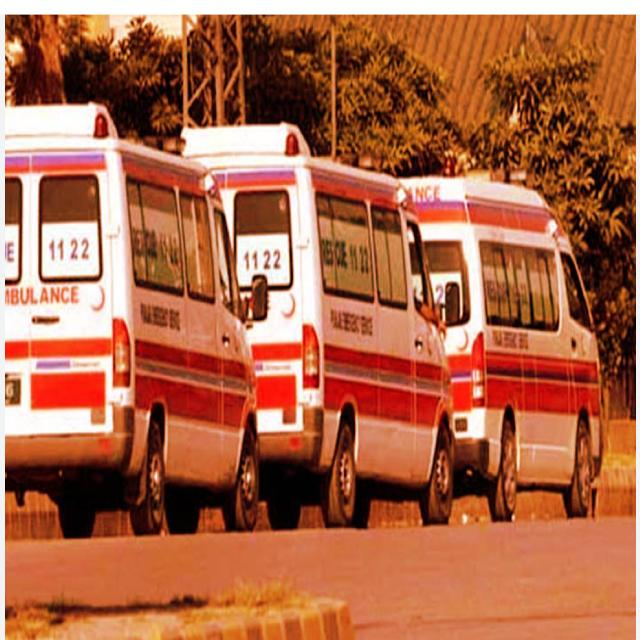ambulance: (208, 112, 614, 546), (0, 112, 243, 510)
